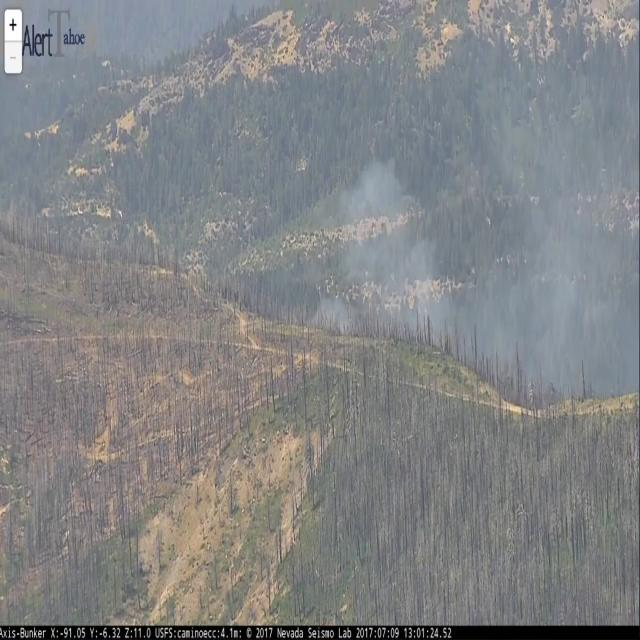smoke: (296, 137, 634, 428)
